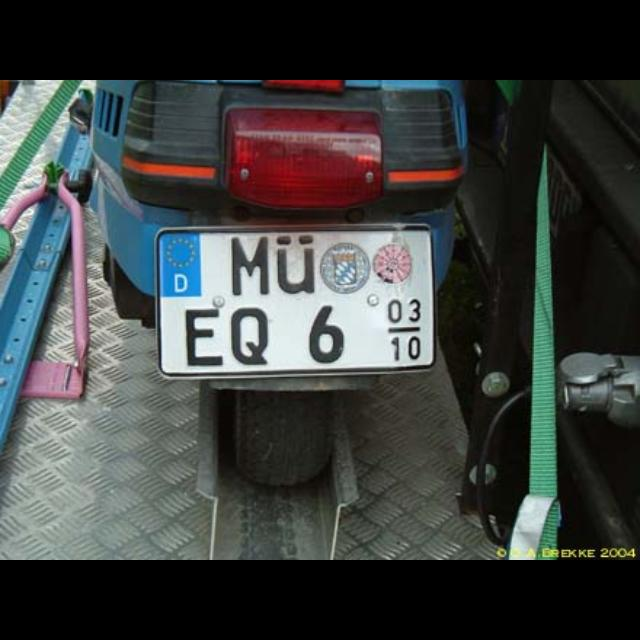d_license_plate: (156, 226, 430, 370)
